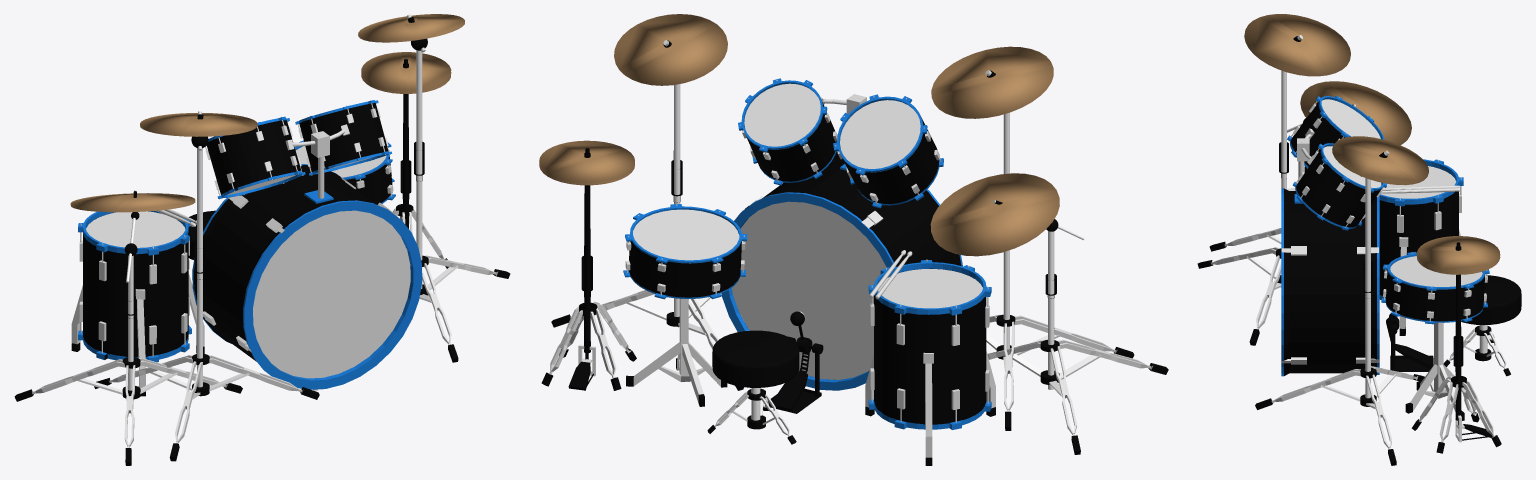
Rendered from new_drum.glb.
3 renders of one model, left to right at view 1: azimuth 30°, elevation 25°; view 2: azimuth 150°, elevation 25°; view 3: azimuth 270°, elevation 25°, orthographic. The views are drawn at different scales.
Visible parts, largest first — view 1: BassDrum, Floortom, Tom2, Tom1, Cylinder.003, Cylinder.011, Cylinder.006, Snare, Cylinder.017, Cylinder.001, Cylinder.014, Cylinder (+9 smaller); view 2: BassDrum, Floortom, Snare, Tom2, Cylinder.017, Tom1, Cylinder.011, Cylinder.006, Cylinder.022, Cylinder.003, object 21, object 2 (+10 smaller); view 3: BassDrum, Floortom, Snare, Cylinder.011, Tom1, Cylinder.006, Tom2, Cylinder.017, Cylinder.003, Cylinder.022, object 21, Cylinder.001 (+11 smaller).
Boxes of the visible parts, x1,y1,x2,y2 form: BassDrum: [192, 164, 422, 390]; Floortom: [71, 211, 204, 396]; Tom2: [205, 116, 305, 199]; Tom1: [295, 100, 391, 175]; Cylinder.003: [361, 52, 451, 93]; Cylinder.011: [140, 113, 257, 136]; Cylinder.006: [358, 14, 464, 42]; Snare: [294, 140, 395, 204]; Cylinder.017: [70, 193, 195, 212]; Cylinder.001: [416, 50, 422, 288]; Cylinder.014: [197, 148, 202, 387]; Cylinder: [396, 59, 413, 228]; BassDrum: [721, 151, 962, 390]; Floortom: [865, 259, 995, 465]; Snare: [623, 204, 747, 299]; Tom2: [833, 94, 943, 208]; Cylinder.017: [930, 173, 1059, 256]; Tom1: [738, 78, 837, 185]; Cylinder.011: [931, 46, 1053, 118]; Cylinder.006: [614, 14, 727, 85]; Cylinder.022: [712, 330, 799, 387]; Cylinder.003: [539, 140, 634, 185]; object 21: [626, 299, 727, 406]; object 2: [768, 311, 823, 413]; BassDrum: [1281, 188, 1379, 376]; Floortom: [1379, 159, 1463, 335]; Snare: [1381, 252, 1489, 324]; Cylinder.011: [1244, 14, 1350, 76]; Tom1: [1292, 143, 1386, 230]; Cylinder.006: [1332, 136, 1428, 185]; Tom2: [1287, 96, 1384, 168]; Cylinder.017: [1300, 81, 1411, 144]; Cylinder.003: [1416, 236, 1500, 274]; Cylinder.022: [1461, 275, 1521, 325]; object 21: [1405, 322, 1464, 420]; Cylinder.001: [1365, 178, 1370, 398].
Size of the model in its own units: 2.35 by 1.36 by 1.44.
